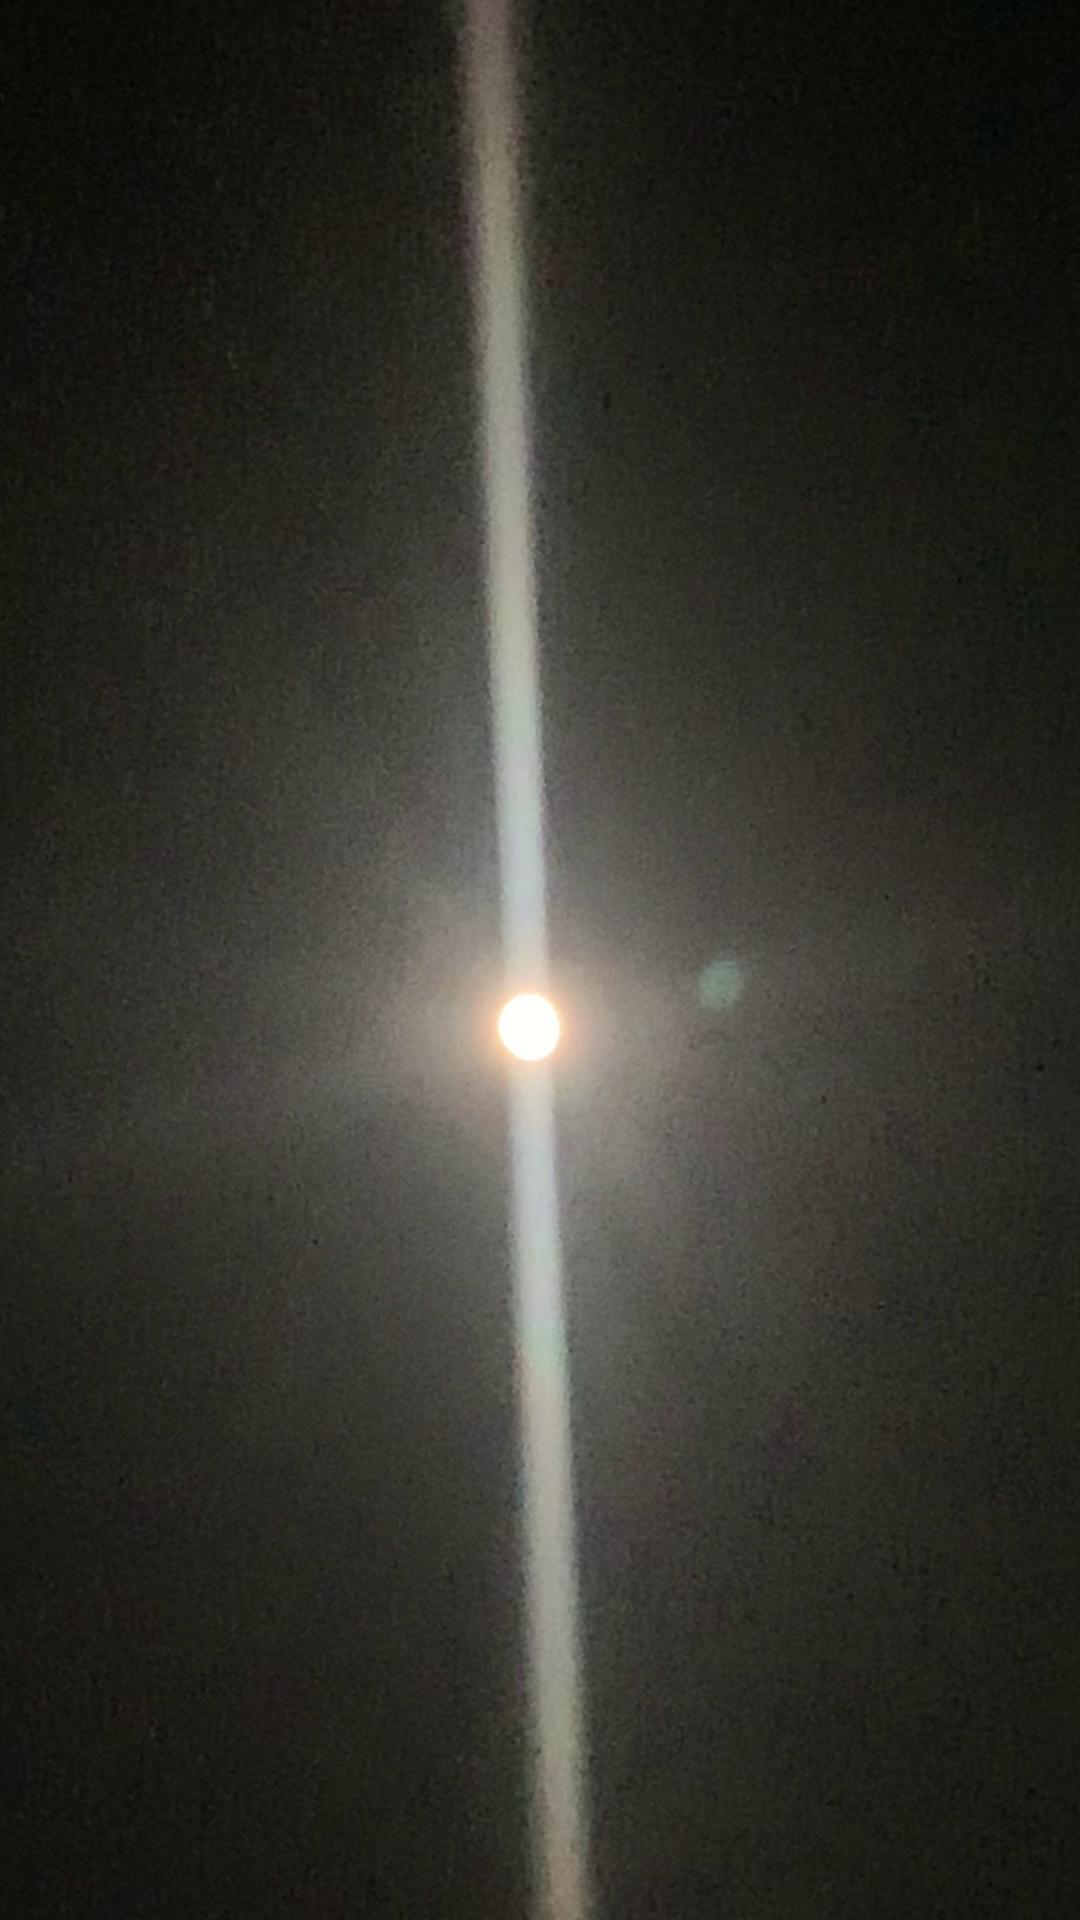moon: (469, 969, 574, 1075)
